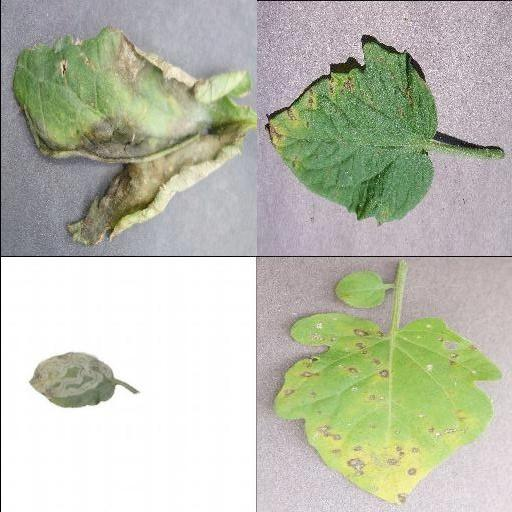Late Blight: (7, 27, 255, 247)
Leaf Miner: (28, 349, 116, 406)
Septoria: (272, 311, 498, 505), (264, 42, 438, 226)
